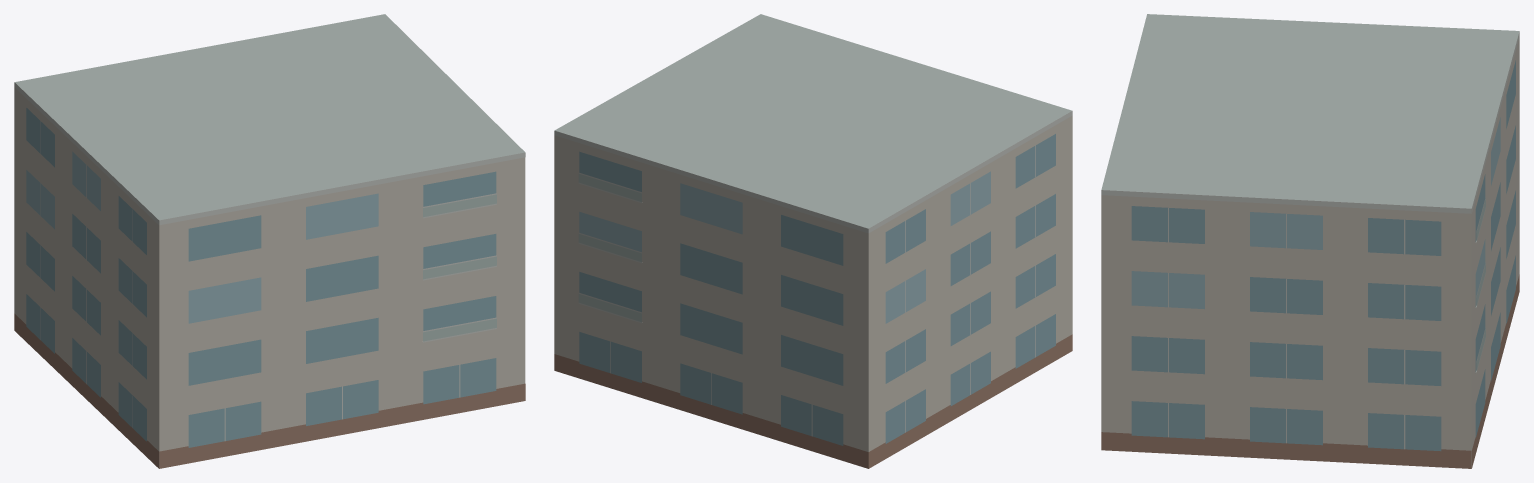
File: survey-upis-32669127.glb
3 renders of one model, left to right at view 1: azimuth 30°, elevation 25°; view 2: azimuth 150°, elevation 25°; view 3: azimuth 270°, elevation 25°, orthographic. The views are drawn at different scales.
Visible parts, largest first — view 1: survey-upis-32669127.tmp; view 2: survey-upis-32669127.tmp; view 3: survey-upis-32669127.tmp.
Part boxes in pixels (bbox=[...]): survey-upis-32669127.tmp: bbox=[14, 14, 525, 468]; survey-upis-32669127.tmp: bbox=[554, 14, 1072, 468]; survey-upis-32669127.tmp: bbox=[1101, 14, 1519, 468].
Bounding box in the file's own units: 19.91 × 12.4 × 18.08.
